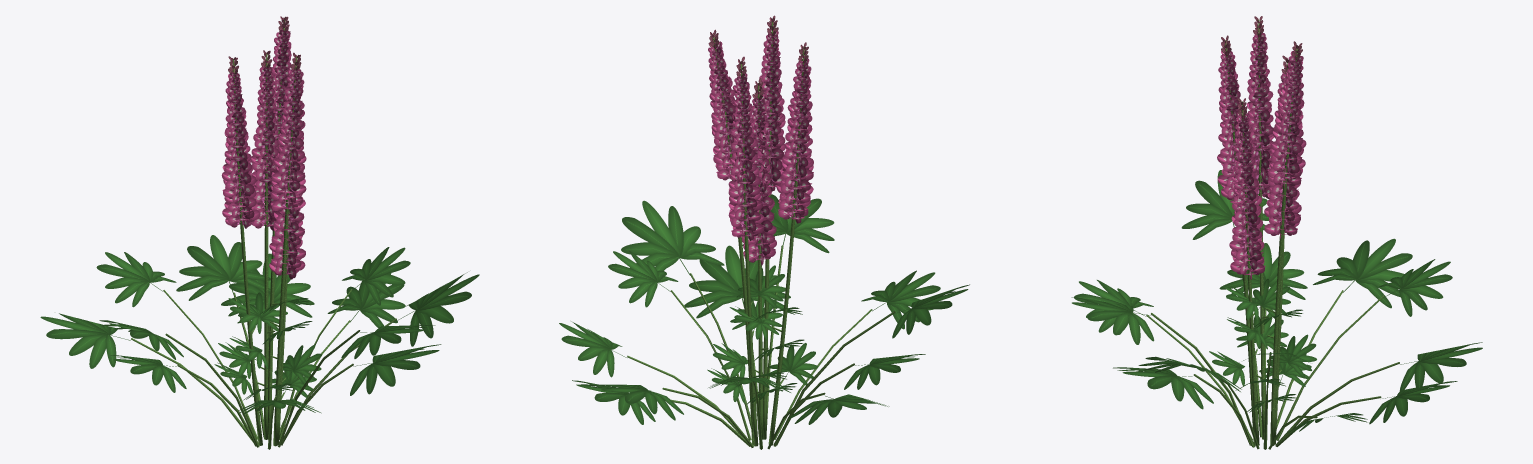
Rendered from lupine_v03.fbx.
3 views of the same model, side by side, from view 1: azimuth 30°, elevation 25°; view 2: azimuth 150°, elevation 25°; view 3: azimuth 270°, elevation 25° (orthographic). The views are drawn at different scales.
Visible parts, largest first — view 1: lupine_v03; view 2: lupine_v03; view 3: lupine_v03.
Boxes of the visible parts, box(x1,y1,x2,y2) form: lupine_v03: box(40, 16, 479, 449); lupine_v03: box(559, 15, 969, 449); lupine_v03: box(1071, 16, 1482, 449).
Size of the model in its own units: 105 by 105 by 99.73.
Materials: 3 (3 with a texture image).
